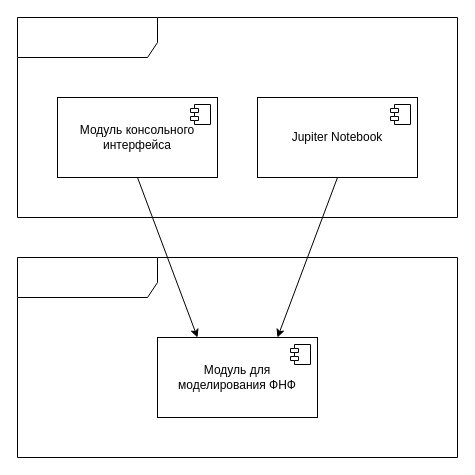
The diagram is 475 pixels wide and 475 high, and some of its shapes have lost their labels. The shapes that lost their labels are listed below. From the top down, each one's box as (x1, y1, x2, y2) in pixels, then its label:
(16, 16, 458, 218): Слой интерфейса
(16, 256, 458, 458): Слой программной логики
